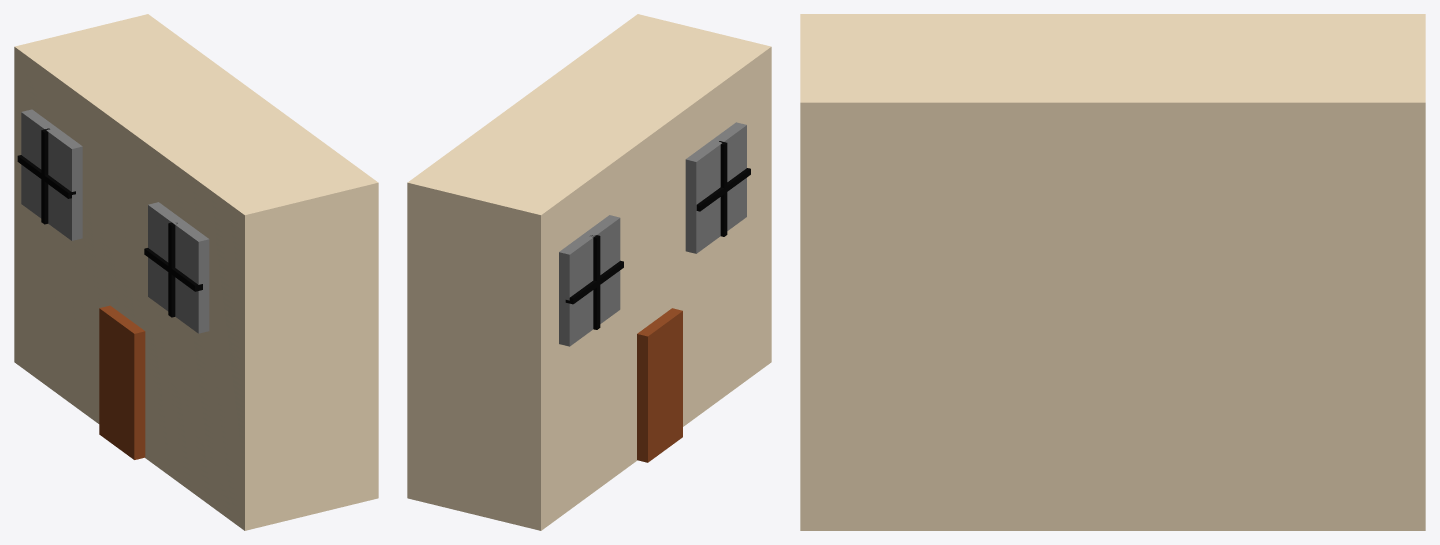
File: house.fbx
3 views of the same model, side by side, from view 1: azimuth 30°, elevation 25°; view 2: azimuth 150°, elevation 25°; view 3: azimuth 270°, elevation 25° (orthographic). The views are drawn at different scales.
Parts seen in each view (by area): view 1: Cube, Cube.003, Cube.001, Cube.002, Cube.004, Cube.006, Cube.007, Cube.005; view 2: Cube, Cube.003, Cube.002, Cube.001, Cube.004, Cube.006, Cube.005, Cube.007; view 3: Cube.
Boxes of the visible parts, x1,y1,x2,y2 form: Cube: [14, 14, 378, 530]; Cube.003: [99, 305, 145, 459]; Cube.001: [21, 109, 82, 240]; Cube.002: [148, 202, 209, 333]; Cube.004: [41, 128, 49, 224]; Cube.006: [168, 222, 177, 317]; Cube.007: [144, 248, 202, 291]; Cube.005: [17, 155, 75, 198]; Cube: [407, 14, 771, 530]; Cube.003: [637, 308, 682, 462]; Cube.002: [685, 122, 746, 253]; Cube.001: [559, 215, 620, 346]; Cube.004: [590, 235, 600, 329]; Cube.006: [719, 141, 727, 236]; Cube.005: [565, 260, 623, 304]; Cube.007: [696, 168, 750, 211]; Cube: [800, 14, 1425, 530].
Bounding box in the file's own units: 222 × 451 × 597.
